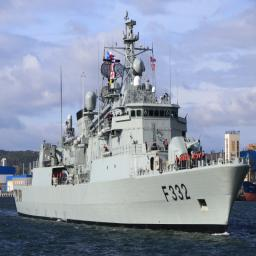Fragata: (12, 13, 252, 240)
